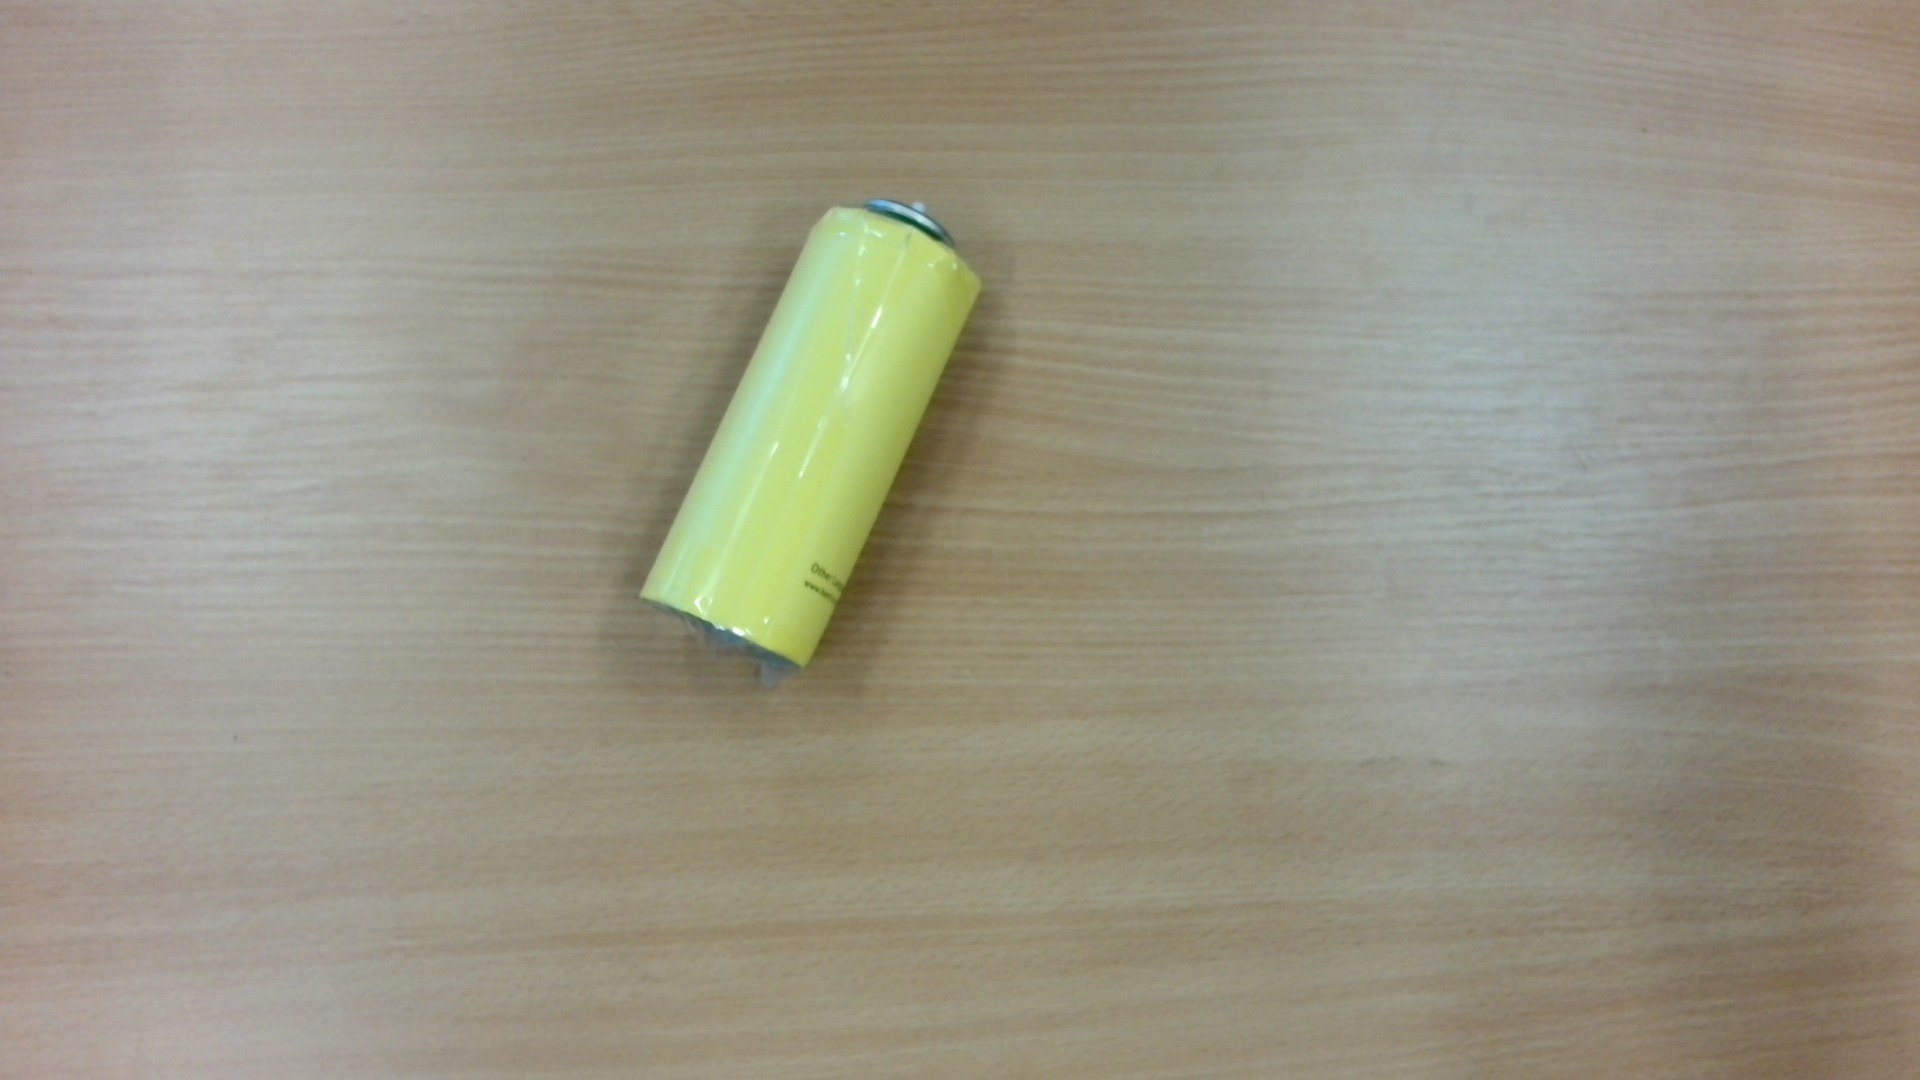Cylinder: (622, 185, 998, 703)
